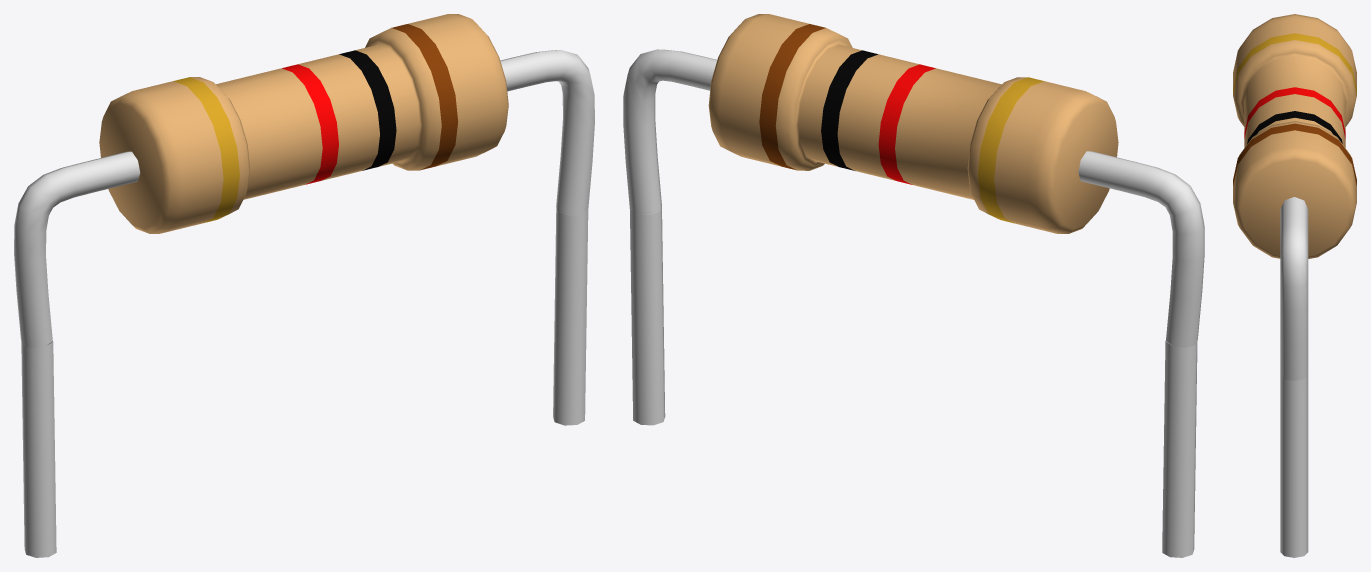
The model's file is ResistorSmallLegs.fbx.
3 views of the same model, side by side, from view 1: azimuth 30°, elevation 25°; view 2: azimuth 150°, elevation 25°; view 3: azimuth 270°, elevation 25° (orthographic). The views are drawn at different scales.
Visible parts, largest first — view 1: Resistor-Axial Blue, Legs.002; view 2: Resistor-Axial Blue, Legs.002; view 3: Resistor-Axial Blue, Legs.002.
Part boxes in pixels (x1,y1,x2,y2): Resistor-Axial Blue: (99, 14, 508, 233); Legs.002: (14, 50, 594, 557); Resistor-Axial Blue: (708, 14, 1118, 233); Legs.002: (623, 49, 1204, 557); Resistor-Axial Blue: (1233, 14, 1356, 258); Legs.002: (1280, 197, 1308, 557).
Size of the model in its own units: 0.01 by 0.0022 by 0.00713.
